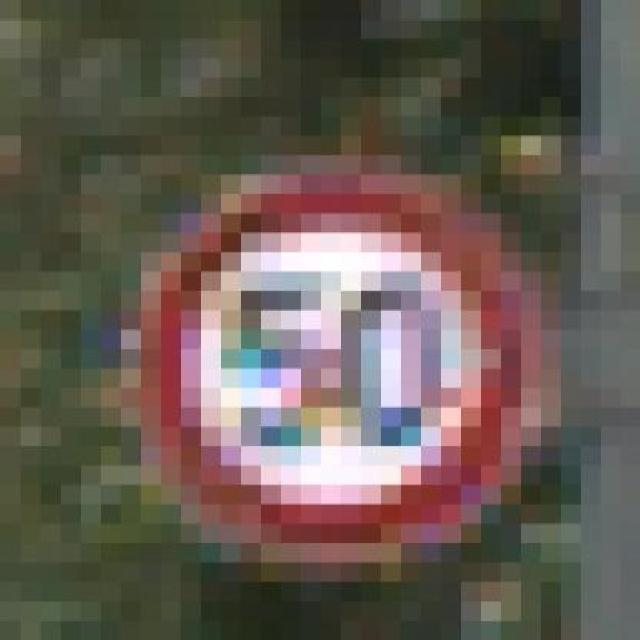forb_speed_over_50: (152, 179, 516, 553)
